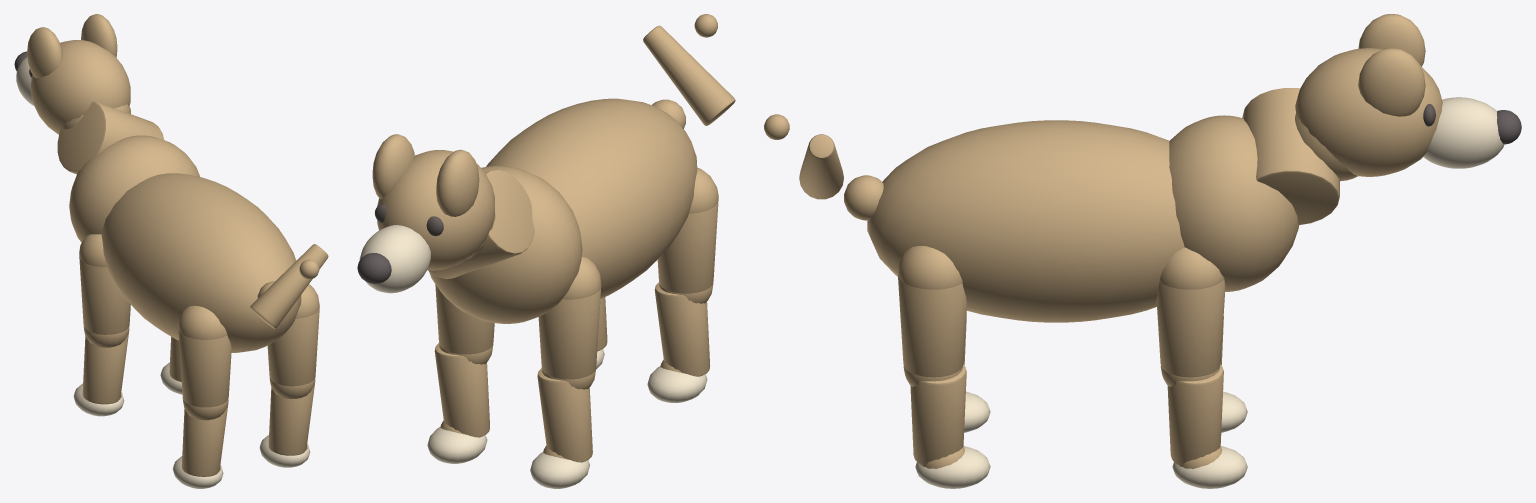
Rendered from th30_hund.glb.
3 views of the same model, side by side, from view 1: azimuth 30°, elevation 25°; view 2: azimuth 150°, elevation 25°; view 3: azimuth 270°, elevation 25° (orthographic). The views are drawn at different scales.
Parts seen in each view (by area): view 1: Sphere, Sphere.001, Sphere.004, Cone, Cone.003, Cone.007, Cone.001, Cone.002, Cone.008, Cone.004, Cone.009, Sphere.007 (+13 smaller); view 2: Sphere, Sphere.001, Sphere.004, Cone.001, Cone, Cone.003, Cone.004, Cone.002, Cone.006, Cone.009, Sphere.005, Cone.005 (+11 smaller); view 3: Sphere, Sphere.001, Sphere.004, Cone, Cone.005, Cone.007, Cone.006, Cone.008, Sphere.005, Sphere.019, Cone.009, Sphere.026 (+8 smaller).
Part boxes in pixels (left/top/right/bottom): Sphere: left=101, top=173, right=301, bottom=352; Sphere.001: left=69, top=135, right=199, bottom=242; Sphere.004: left=31, top=40, right=130, bottom=134; Cone: left=57, top=101, right=163, bottom=174; Cone.003: left=178, top=328, right=231, bottom=407; Cone.007: left=267, top=309, right=319, bottom=386; Cone.001: left=79, top=256, right=130, bottom=334; Cone.002: left=82, top=329, right=129, bottom=404; Cone.008: left=268, top=381, right=315, bottom=455; Cone.004: left=181, top=401, right=228, bottom=476; Cone.009: left=250, top=244, right=328, bottom=328; Sphere.007: left=27, top=27, right=62, bottom=78; Sphere: left=486, top=98, right=697, bottom=298; Sphere.001: left=429, top=166, right=582, bottom=323; Sphere.004: left=377, top=150, right=494, bottom=270; Cone.001: left=538, top=285, right=601, bottom=379; Cone: left=428, top=169, right=534, bottom=278; Cone.003: left=657, top=199, right=718, bottom=293; Cone.004: left=654, top=282, right=709, bottom=376; Cone.002: left=537, top=368, right=592, bottom=462; Cone.006: left=434, top=343, right=489, bottom=437; Cone.009: left=643, top=25, right=735, bottom=125; Sphere.005: left=359, top=225, right=430, bottom=293; Cone.005: left=435, top=284, right=494, bottom=354; Sphere: left=867, top=120, right=1184, bottom=322; Sphere.001: left=1169, top=115, right=1299, bottom=291; Sphere.004: left=1295, top=48, right=1442, bottom=176; Cone: left=1242, top=88, right=1339, bottom=224; Cone.005: left=1156, top=279, right=1225, bottom=377; Cone.007: left=898, top=275, right=967, bottom=377; Cone.006: left=1167, top=364, right=1223, bottom=465; Cone.008: left=910, top=364, right=966, bottom=465; Sphere.005: left=1423, top=97, right=1504, bottom=168; Sphere.019: left=1358, top=48, right=1425, bottom=116; Cone.009: left=799, top=134, right=843, bottom=199; Sphere.026: left=897, top=246, right=962, bottom=289.
Bounding box in the file's own units: 0.3165 × 0.722 × 1.17.
